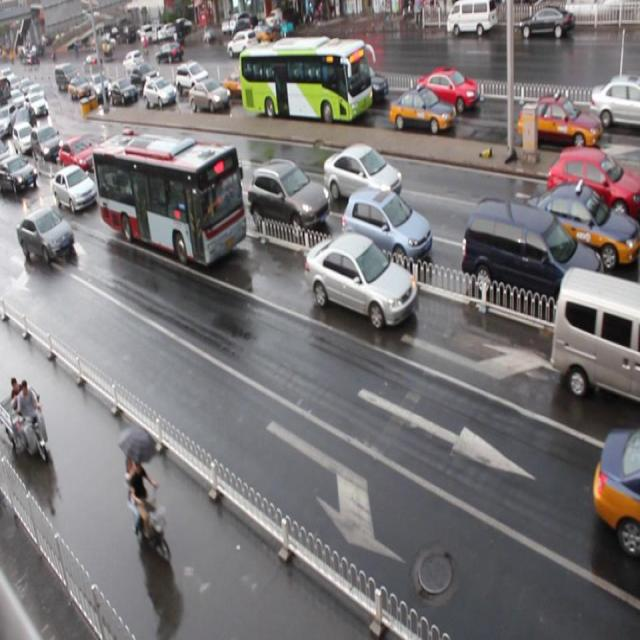car: (304, 227, 417, 332), (522, 182, 640, 272), (546, 146, 640, 231), (340, 188, 430, 272), (593, 421, 640, 553), (247, 159, 328, 233), (323, 142, 402, 215), (517, 95, 599, 154), (176, 150, 242, 208), (388, 86, 456, 136), (17, 208, 74, 263), (413, 67, 478, 113), (588, 78, 640, 131), (329, 64, 387, 108), (52, 164, 98, 215), (131, 145, 178, 194), (1, 152, 37, 194), (88, 135, 125, 174), (189, 79, 230, 114), (59, 134, 95, 172), (223, 70, 260, 102), (176, 61, 209, 95), (29, 127, 58, 162), (145, 78, 176, 109), (129, 64, 160, 94), (110, 80, 138, 107), (90, 73, 111, 102)
truck: (462, 195, 604, 325), (550, 264, 640, 403)
van: (92, 130, 246, 266), (239, 39, 373, 122)
